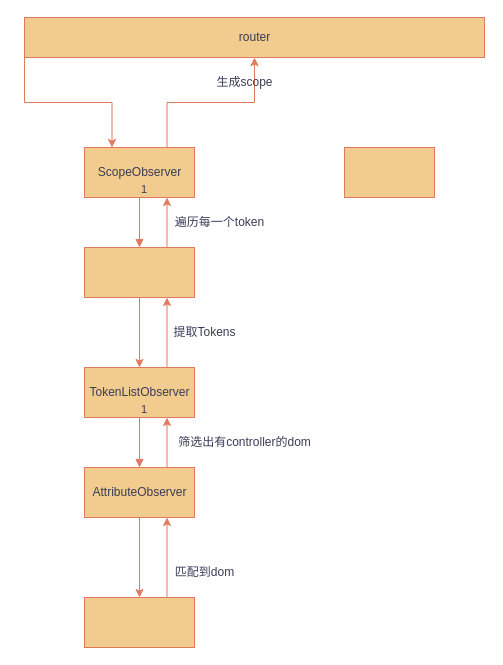
Some shapes in this 503 by 665 pixel diagram are drawn without their labels. The box of each missing label's shape, as (x1, y1, x2, y2) in pixels:
ElementObserver: (84, 596, 194, 648)
ValueListObserver: (84, 246, 194, 298)
